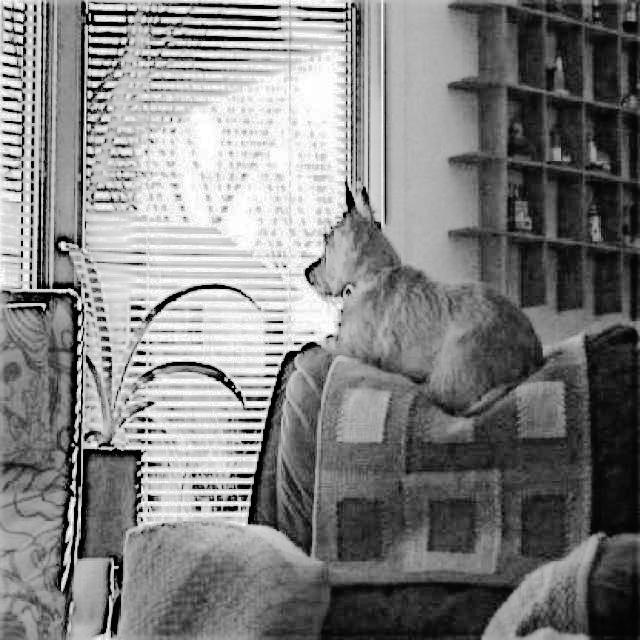Dog: (297, 178, 548, 424)
